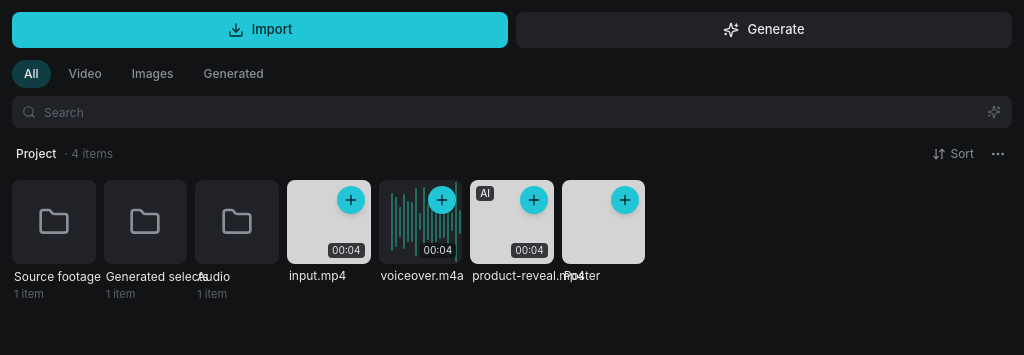
Test: MediaPanel browsing › uses smart search results and status, and falls back to local matches when the index fails
Click the button named "Smart search".
click(994, 112)  # box top-left (980, 100), bottom-right (1008, 124)
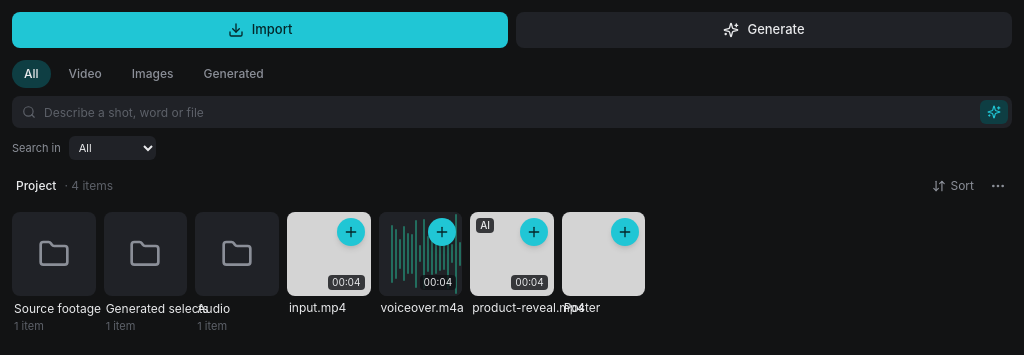
Type "sunset" into the search field named "Search project media".
click(512, 112); type("sunset")  # box top-left (12, 96), bottom-right (1012, 128)
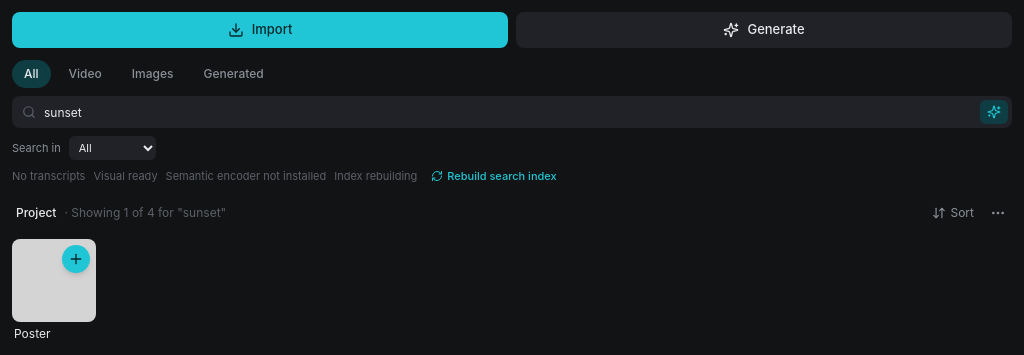
Expected: the message named "Search index status" shows "Visual ready", top-left (93, 169), bottom-right (158, 183)
Expected: the button "Rebuild search index" is shown, top-left (425, 166), bottom-right (563, 186)
Replace the text in the search field named "Search project media" with "broken" at point(512, 112), box top-left (12, 96), bottom-right (1012, 128)
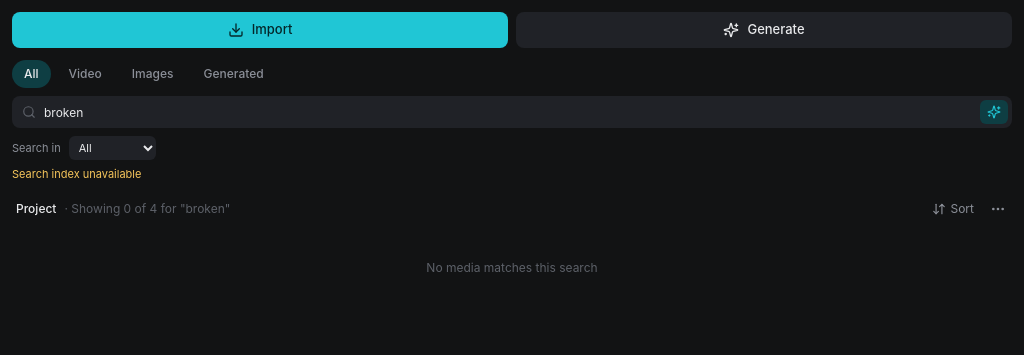
Expected: the text "Search index unavailable" is shown, top-left (12, 166), bottom-right (141, 182)
Expected: the text "No media matches this search" is shown, top-left (426, 260), bottom-right (598, 274)
